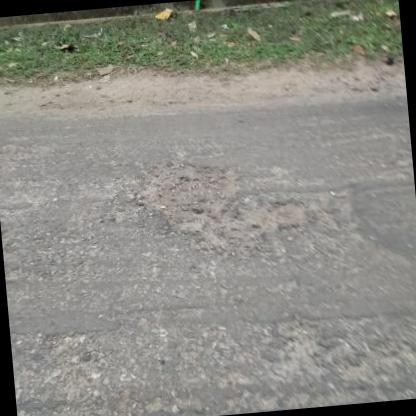pothole: (130, 142, 310, 258)
